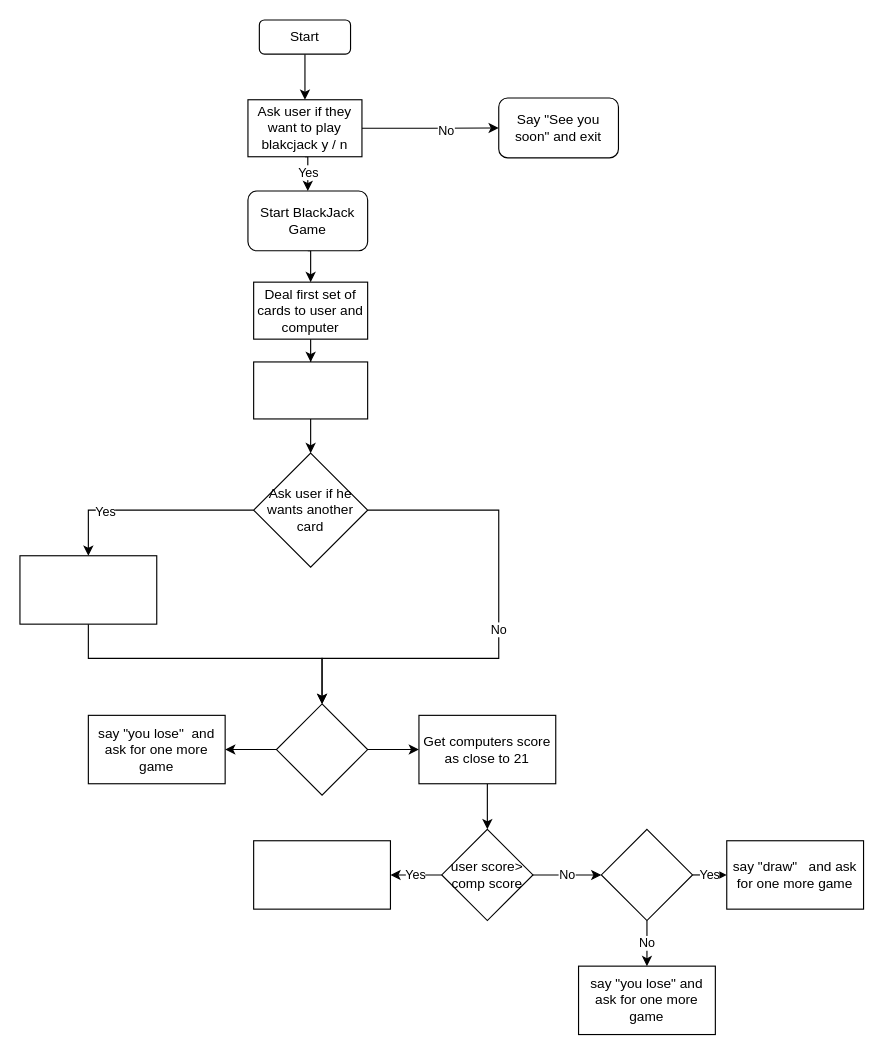
Image size: 884x1055. Some labels were removed from this diagram. The centre of each missing label's shape, as x and y in pixels:
Give another card if user wants a card and calculate new score: [88,589]
If user score > 21: [321,749]
say "you win" and ask for one more game: [321,874]
Show only users 2 cards and computers 1 card: [310,390]
user score = comp score: [646,874]
